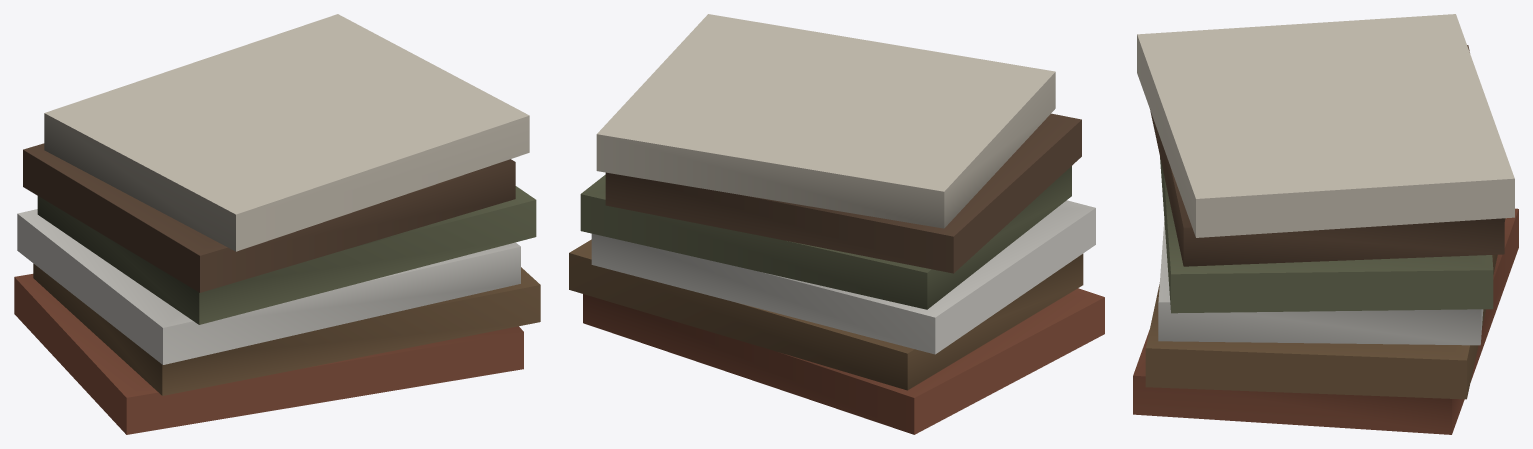
File: book_stack.glb
3 renders of one model, left to right at view 1: azimuth 30°, elevation 25°; view 2: azimuth 150°, elevation 25°; view 3: azimuth 270°, elevation 25°, orthographic. The views are drawn at different scales.
Visible parts, largest first — view 1: book_stack; view 2: book_stack; view 3: book_stack.
Part boxes in pixels (x1,y1,x2,y2): book_stack: [14, 14, 540, 434]; book_stack: [569, 14, 1104, 434]; book_stack: [1133, 14, 1518, 434].
Bounding box in the file's own units: 0.2786 × 0.144 × 0.2153.
